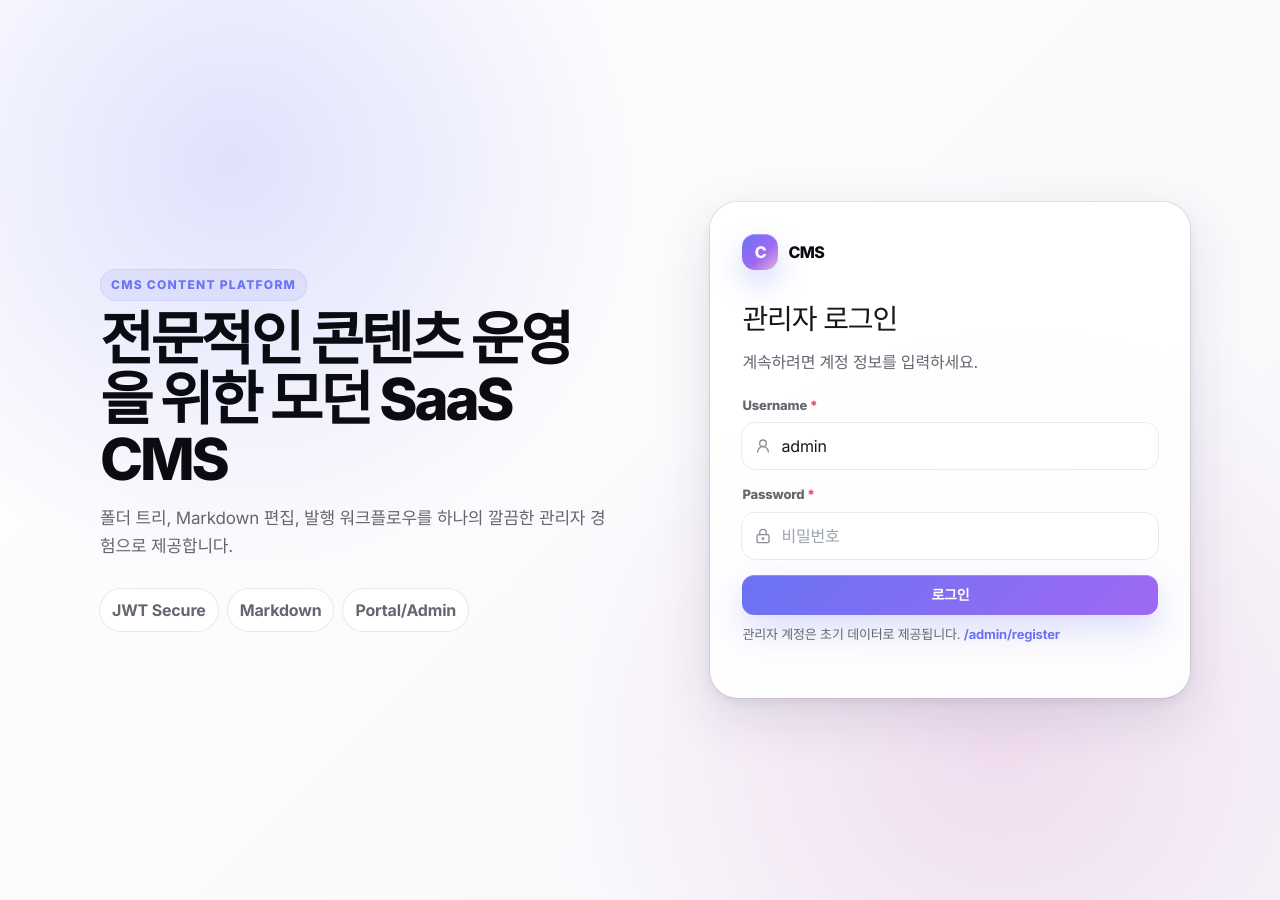
LoginPage › 로그인 실패 시 에러 메시지를 표시한다
The width and height of the screenshot is (1280, 900).
Type "wrong" into the password field with placeholder "비밀번호".
click(964, 536); type("wrong")  # box [782,524,1146,548]
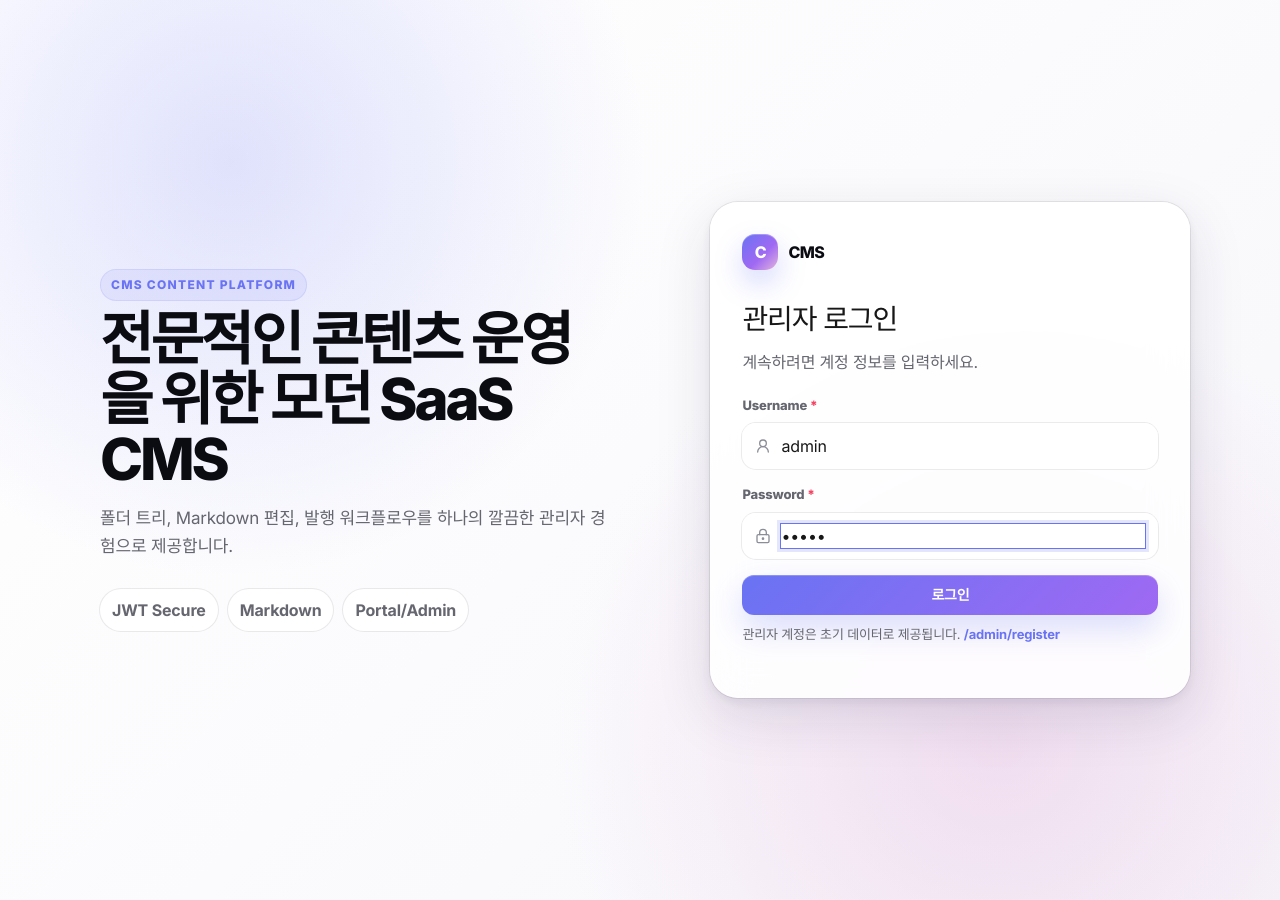
Click the button "로그인".
click(950, 595)  # box [742,575,1158,615]
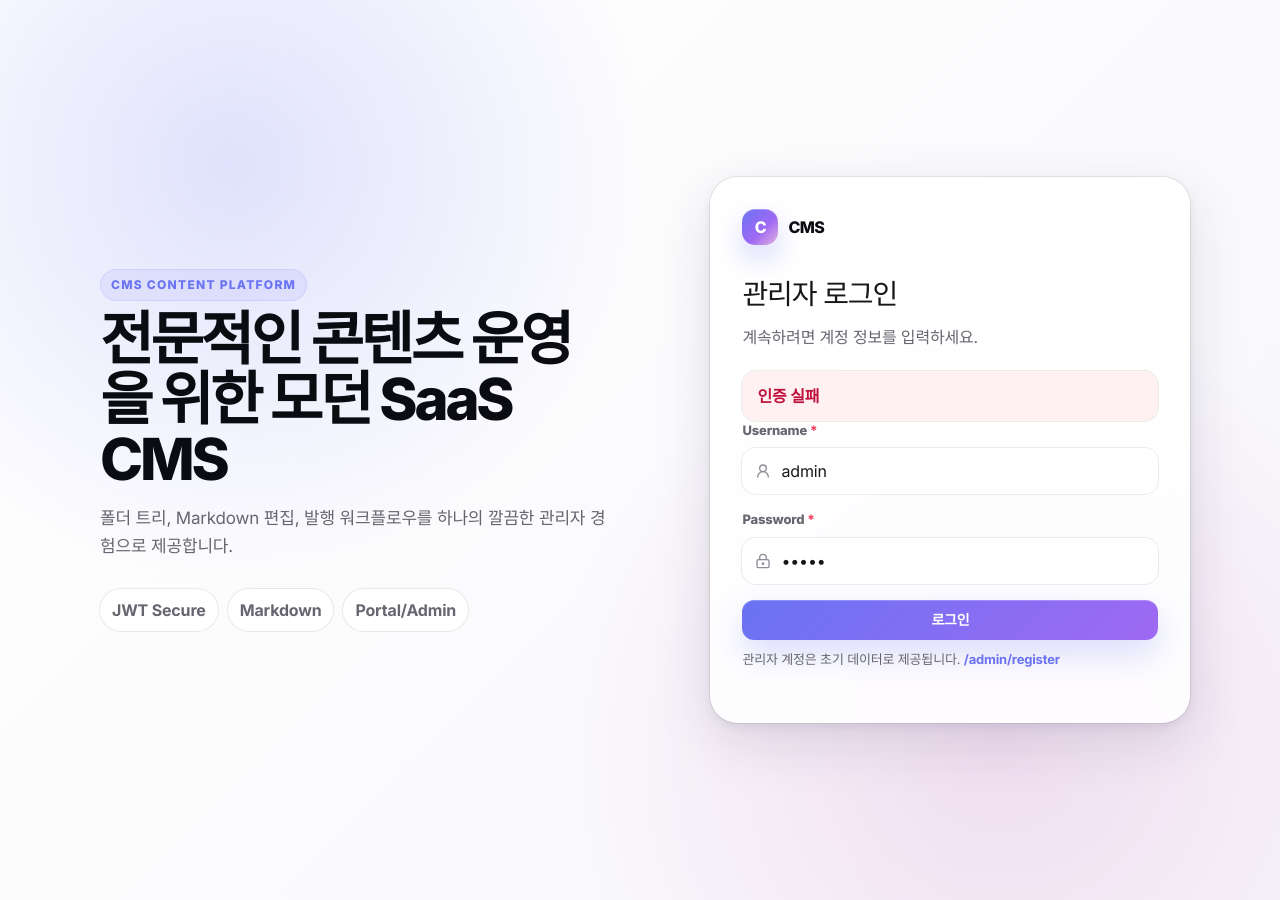
Result: the text "인증 실패" is shown at [742,371,1158,421]
